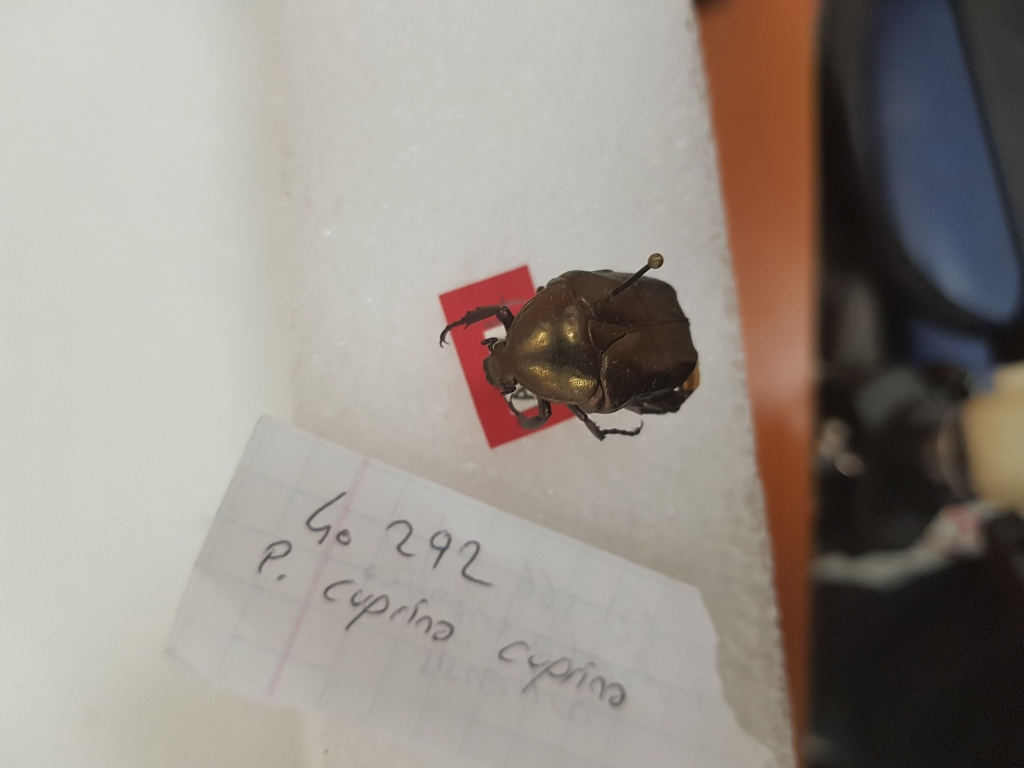Protaetia_cuprina_cuprina: (427, 264, 707, 441)
